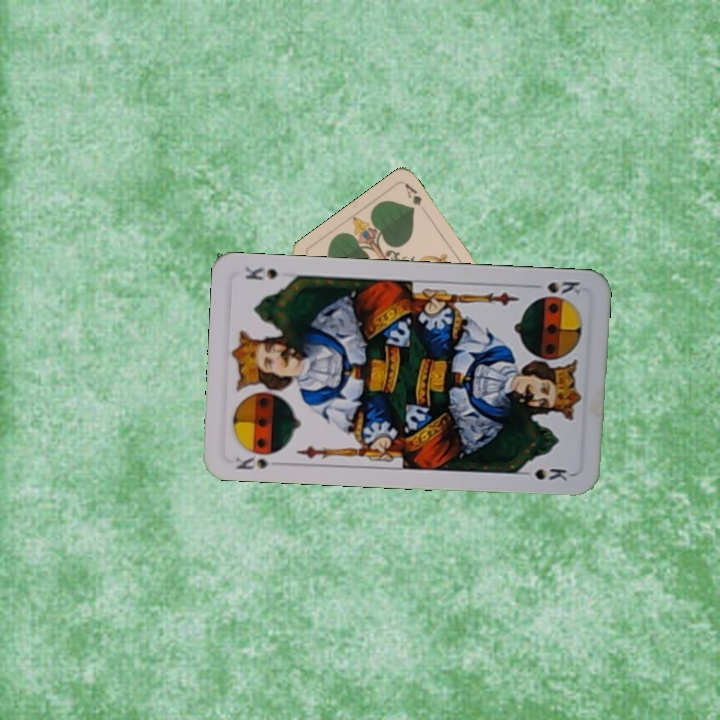SK: (526, 277, 585, 297), (232, 452, 286, 472)
